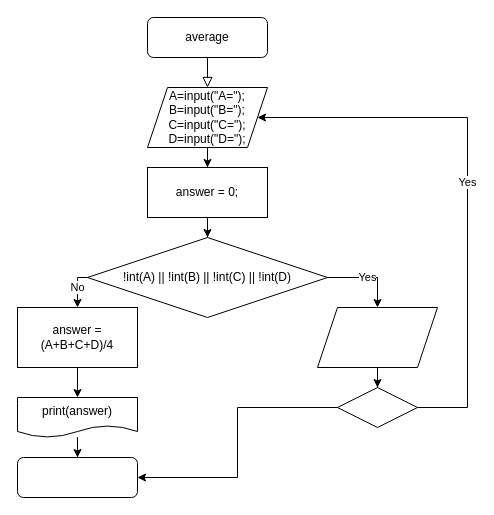
Some shapes in this 494 by 515 pixel diagram are drawn without their labels. Each missing label, with the box of its shape:
end: (16, 456, 138, 498)
res=='yes': (336, 386, 418, 428)
res=input("error. Try again?"): (316, 306, 438, 368)
